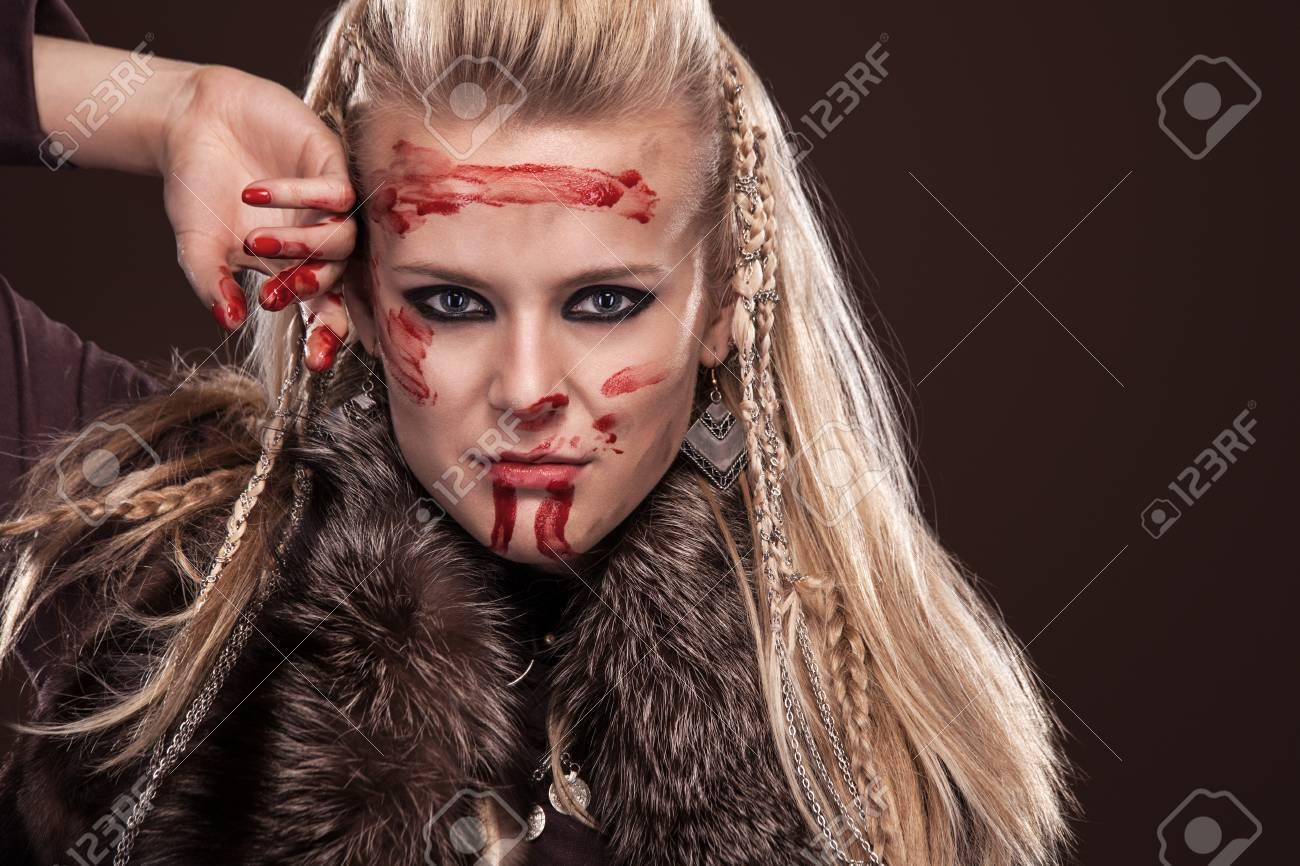Fire: (366, 138, 659, 234), (377, 306, 436, 406), (467, 462, 517, 556), (534, 475, 576, 560), (258, 260, 324, 310), (601, 361, 671, 396), (509, 389, 569, 429), (209, 274, 247, 330), (304, 324, 342, 372), (592, 412, 619, 446), (529, 437, 565, 456), (567, 437, 578, 450), (615, 447, 623, 454)
